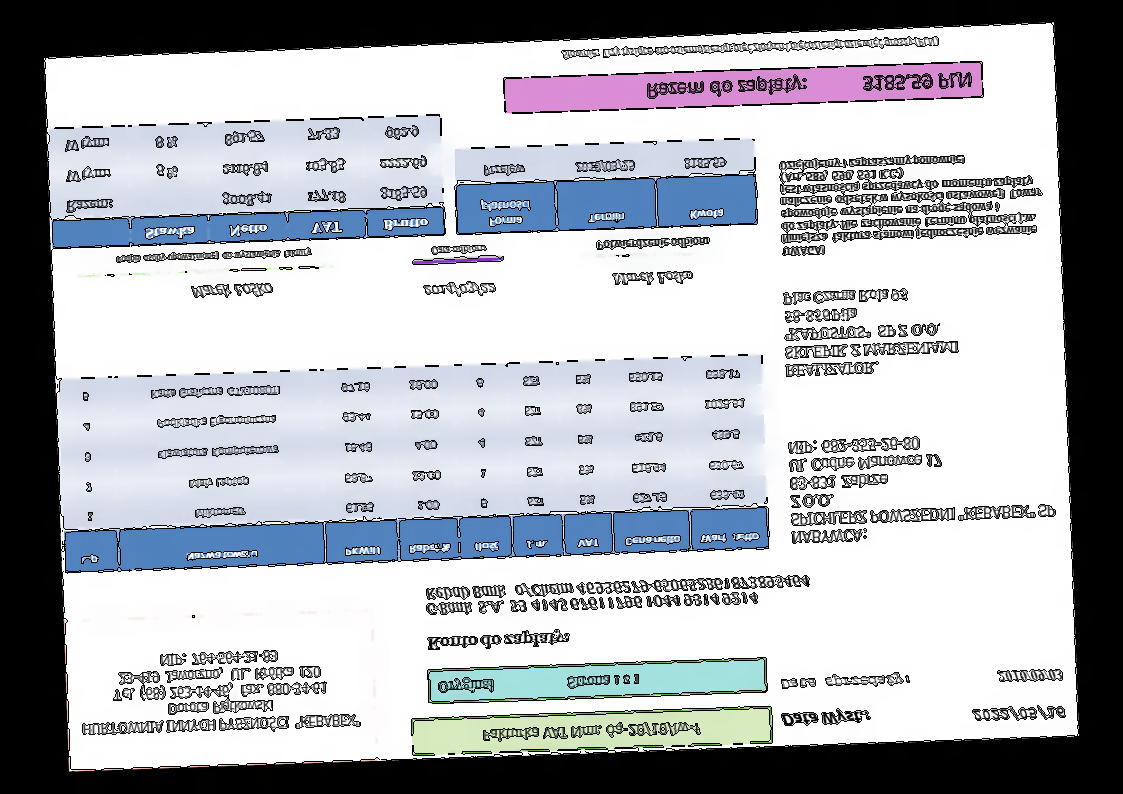Table: (57, 353, 770, 574), (47, 113, 447, 250), (452, 137, 759, 236)
TextBox: (785, 429, 1059, 546), (776, 149, 1046, 260), (78, 643, 364, 739), (423, 570, 811, 618), (781, 284, 963, 380), (644, 67, 975, 102), (560, 33, 942, 63), (480, 718, 701, 746), (436, 672, 642, 696), (112, 245, 315, 268), (423, 627, 573, 655), (778, 672, 911, 692), (594, 234, 713, 253), (968, 703, 1066, 725), (778, 709, 873, 730), (190, 281, 275, 302), (611, 267, 695, 287), (420, 278, 499, 299), (995, 668, 1063, 684), (428, 242, 488, 258)
